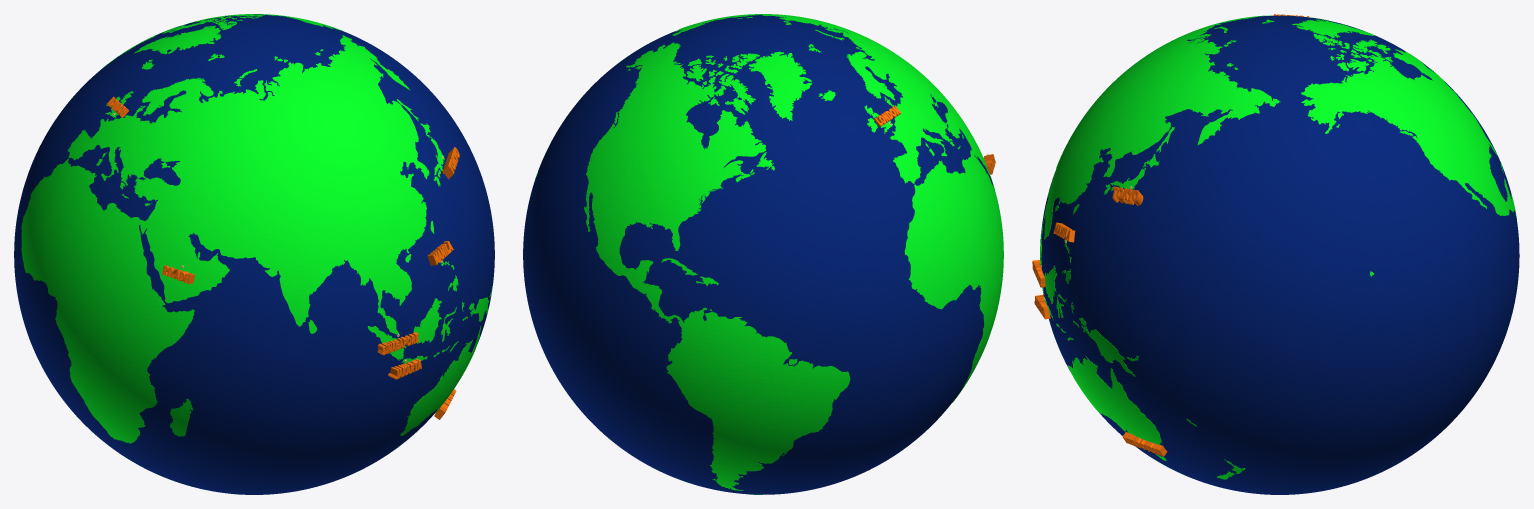
The model's file is NoHochiGlobe.glb.
3 renders of one model, left to right at view 1: azimuth 30°, elevation 25°; view 2: azimuth 150°, elevation 25°; view 3: azimuth 270°, elevation 25°, orthographic.
Parts seen in each view (by area): view 1: Object_2, Object_20, Object_16, Object_17, Object_12, Object_13; view 2: Object_2, Object_19, Object_20, Object_17, Object_15; view 3: Object_2, Object_20, Object_19, Object_16, Object_14, Object_17, Object_13.
Part boxes in pixels (<box>): Object_2: <box>14,14,494,494</box>; Object_20: <box>21,35,429,443</box>; Object_16: <box>400,326,481,435</box>; Object_17: <box>134,25,220,54</box>; Object_12: <box>170,14,456,436</box>; Object_13: <box>105,91,444,343</box>; Object_2: <box>523,15,993,494</box>; Object_19: <box>584,42,850,488</box>; Object_20: <box>672,14,1003,402</box>; Object_17: <box>748,51,811,120</box>; Object_15: <box>719,74,755,114</box>; Object_2: <box>1040,15,1519,494</box>; Object_20: <box>1040,15,1280,265</box>; Object_19: <box>1301,49,1516,219</box>; Object_16: <box>1068,356,1161,444</box>; Object_14: <box>1079,33,1342,376</box>; Object_17: <box>1292,19,1374,37</box>; Object_13: <box>1044,167,1145,303</box>.
Size of the model in its own units: 2 by 2 by 2.03.
